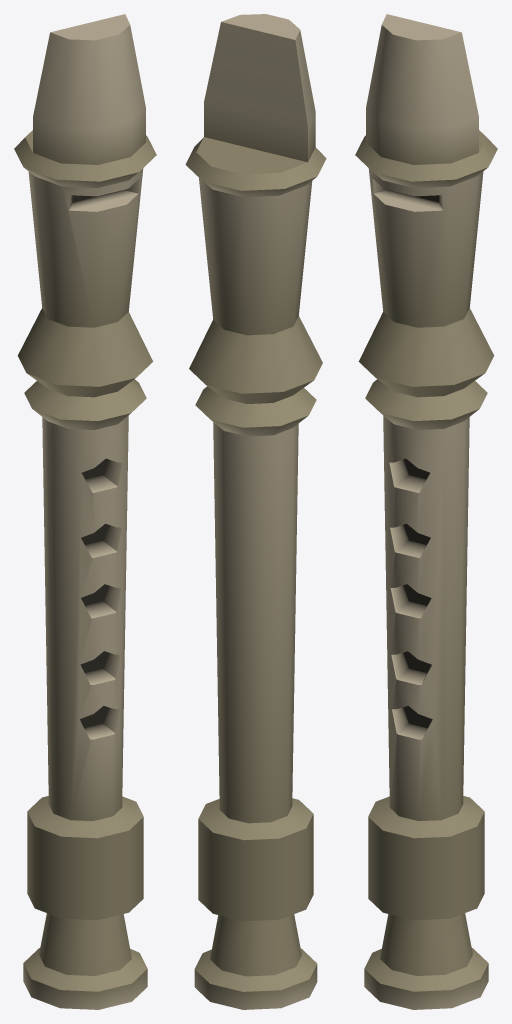
The model's file is Recorder.fbx.
The picture shows the model from 3 angles, left to right: view 1: azimuth 30°, elevation 25°; view 2: azimuth 150°, elevation 25°; view 3: azimuth 330°, elevation 25°; orthographic projection.
Visible parts, largest first — view 1: Recorder Instrument; view 2: Recorder Instrument; view 3: Recorder Instrument.
Part boxes in pixels (x1=…): Recorder Instrument: x1=14, y1=14, x2=156, y2=1009; Recorder Instrument: x1=185, y1=14, x2=326, y2=1009; Recorder Instrument: x1=355, y1=14, x2=497, y2=1009.
Size of the model in its own units: 0.1042 by 0.7708 by 0.0991.
